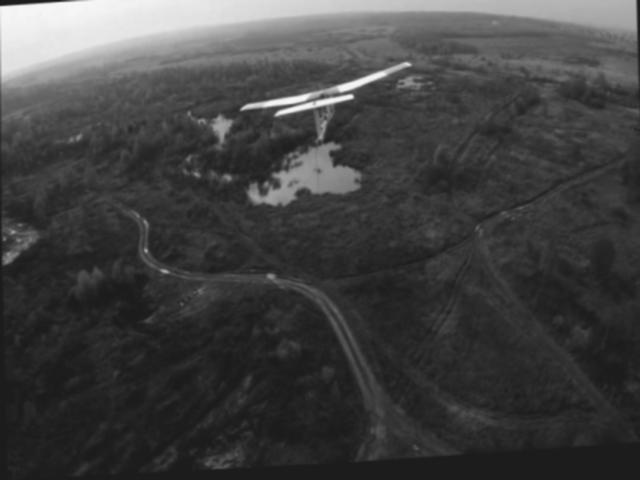hedef: (232, 56, 422, 150)
